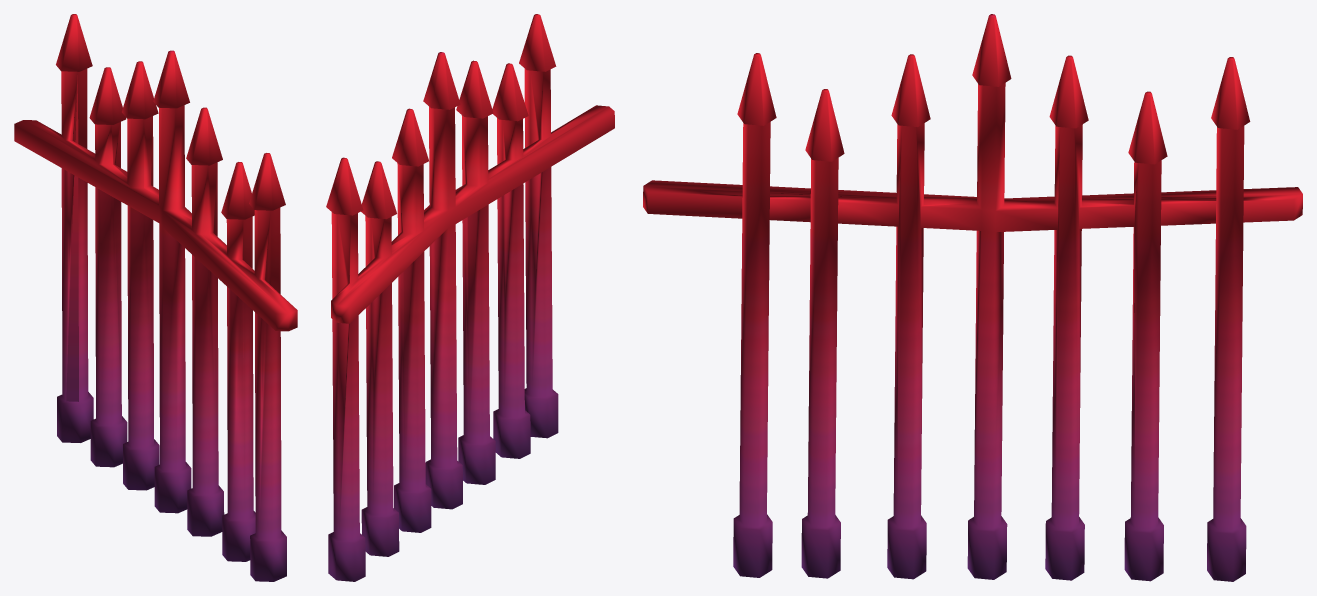
File: hell1.fbx
3 views of the same model, side by side, from view 1: azimuth 30°, elevation 25°; view 2: azimuth 150°, elevation 25°; view 3: azimuth 270°, elevation 25° (orthographic). The views are drawn at different scales.
Parts seen in each view (by area): view 1: Cube_055_2; view 2: Cube_055_2; view 3: Cube_055_2.
Boxes of the visible parts, box(x1,y1,x2,y2) form: Cube_055_2: box(14, 14, 297, 581); Cube_055_2: box(326, 14, 614, 581); Cube_055_2: box(643, 14, 1302, 581).
Bounding box in the file's own units: 0.7056 × 5.99 × 6.43.
